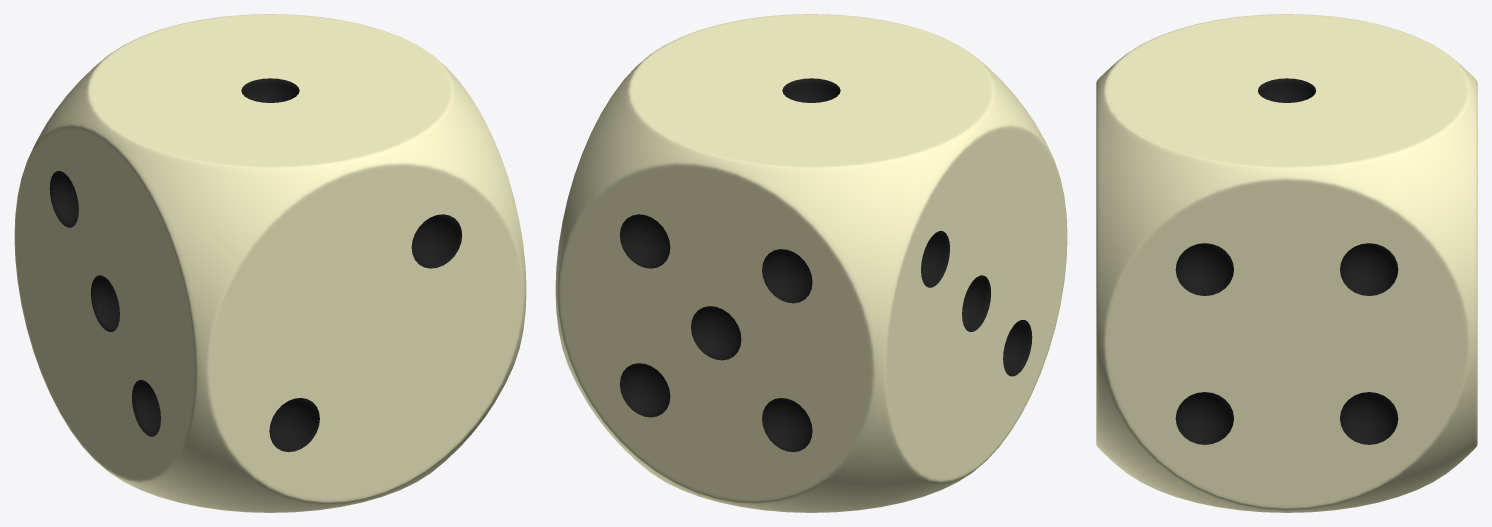
Rendered from dice-blendswap.fbx.
The picture shows the model from 3 angles, left to right: view 1: azimuth 30°, elevation 25°; view 2: azimuth 150°, elevation 25°; view 3: azimuth 270°, elevation 25°; orthographic projection.
Parts seen in each view (by area): view 1: dice; view 2: dice; view 3: dice.
Boxes of the visible parts, box(x1,y1,x2,y2) form: dice: box(14, 14, 526, 512); dice: box(555, 14, 1067, 512); dice: box(1096, 14, 1477, 512).
Bounding box in the file's own units: 204 × 204 × 204.
